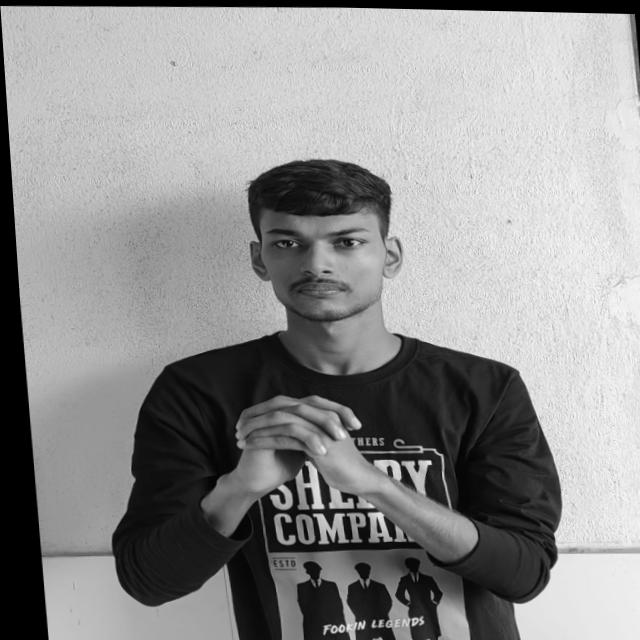Sorry: (215, 391, 371, 497)
